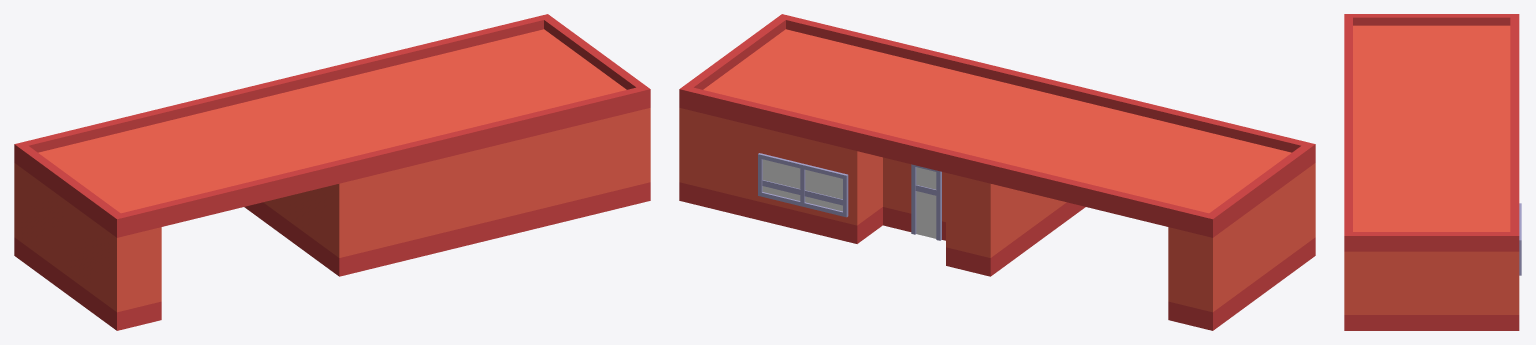
Rendered from garage-exterior.glb.
3 views of the same model, side by side, from view 1: azimuth 30°, elevation 25°; view 2: azimuth 150°, elevation 25°; view 3: azimuth 270°, elevation 25° (orthographic). The views are drawn at different scales.
Parts seen in each view (by area): view 1: mergedBlocks(Clone); view 2: mergedBlocks(Clone); view 3: mergedBlocks(Clone).
Boxes of the visible parts, x1,y1,x2,y2 form: mergedBlocks(Clone): (14, 14, 650, 330); mergedBlocks(Clone): (679, 14, 1315, 330); mergedBlocks(Clone): (1344, 14, 1521, 330).
Size of the model in its own units: 6 by 1.2 by 2.03.
